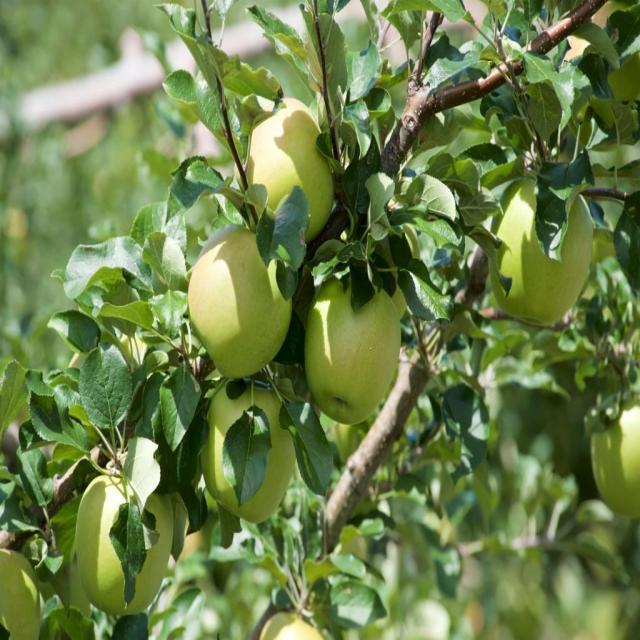Green Apple: (494, 172, 596, 323), (191, 223, 296, 368), (207, 364, 303, 518), (306, 261, 399, 409), (81, 465, 171, 615), (246, 99, 341, 235), (593, 401, 640, 521), (1, 540, 43, 640), (269, 608, 331, 640)
